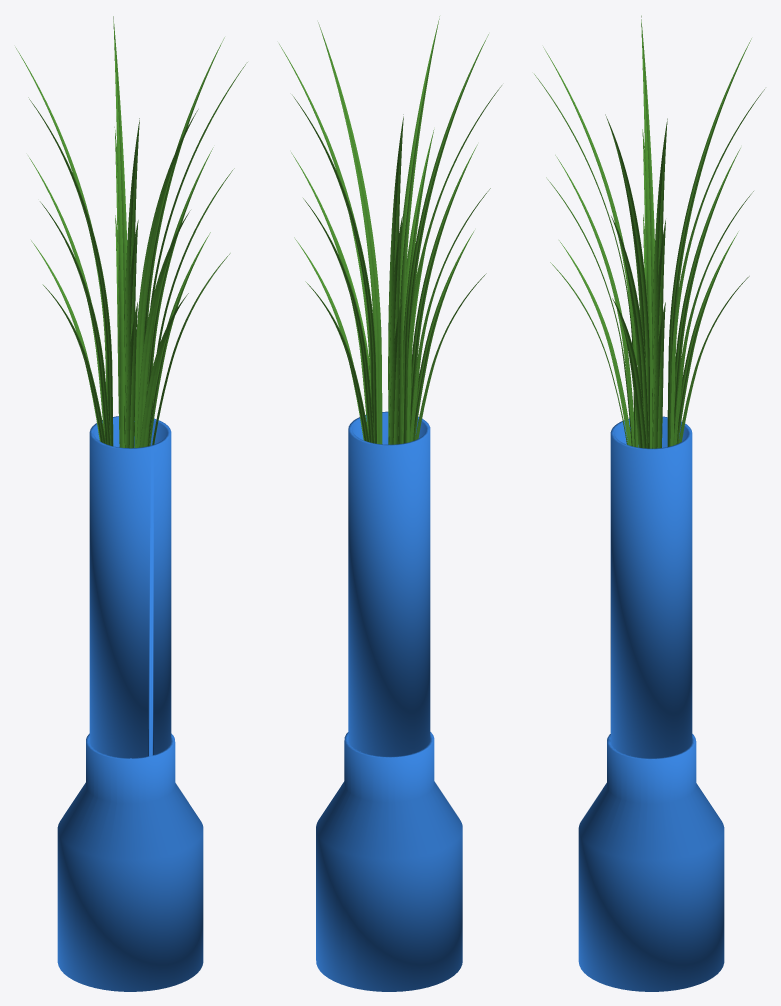
Rendered from seed_blue.dae.
3 renders of one model, left to right at view 1: azimuth 30°, elevation 25°; view 2: azimuth 150°, elevation 25°; view 3: azimuth 270°, elevation 25°, orthographic.
Parts seen in each view (by area): view 1: Abu2024_field - seedlings_blue-1 seedling-2, Abu2024_field - seedlings_blue-1 Grass-4; view 2: Abu2024_field - seedlings_blue-1 seedling-2, Abu2024_field - seedlings_blue-1 Grass-4; view 3: Abu2024_field - seedlings_blue-1 seedling-2, Abu2024_field - seedlings_blue-1 Grass-4.
Boxes of the visible parts, x1,y1,x2,y2 form: Abu2024_field - seedlings_blue-1 seedling-2: [57, 416, 203, 991]; Abu2024_field - seedlings_blue-1 Grass-4: [15, 16, 247, 448]; Abu2024_field - seedlings_blue-1 seedling-2: [316, 411, 462, 991]; Abu2024_field - seedlings_blue-1 Grass-4: [279, 16, 501, 444]; Abu2024_field - seedlings_blue-1 seedling-2: [578, 416, 724, 991]; Abu2024_field - seedlings_blue-1 Grass-4: [534, 15, 764, 448].
Bounding box in the file's own units: 0.1259 × 0.1209 × 0.508.
